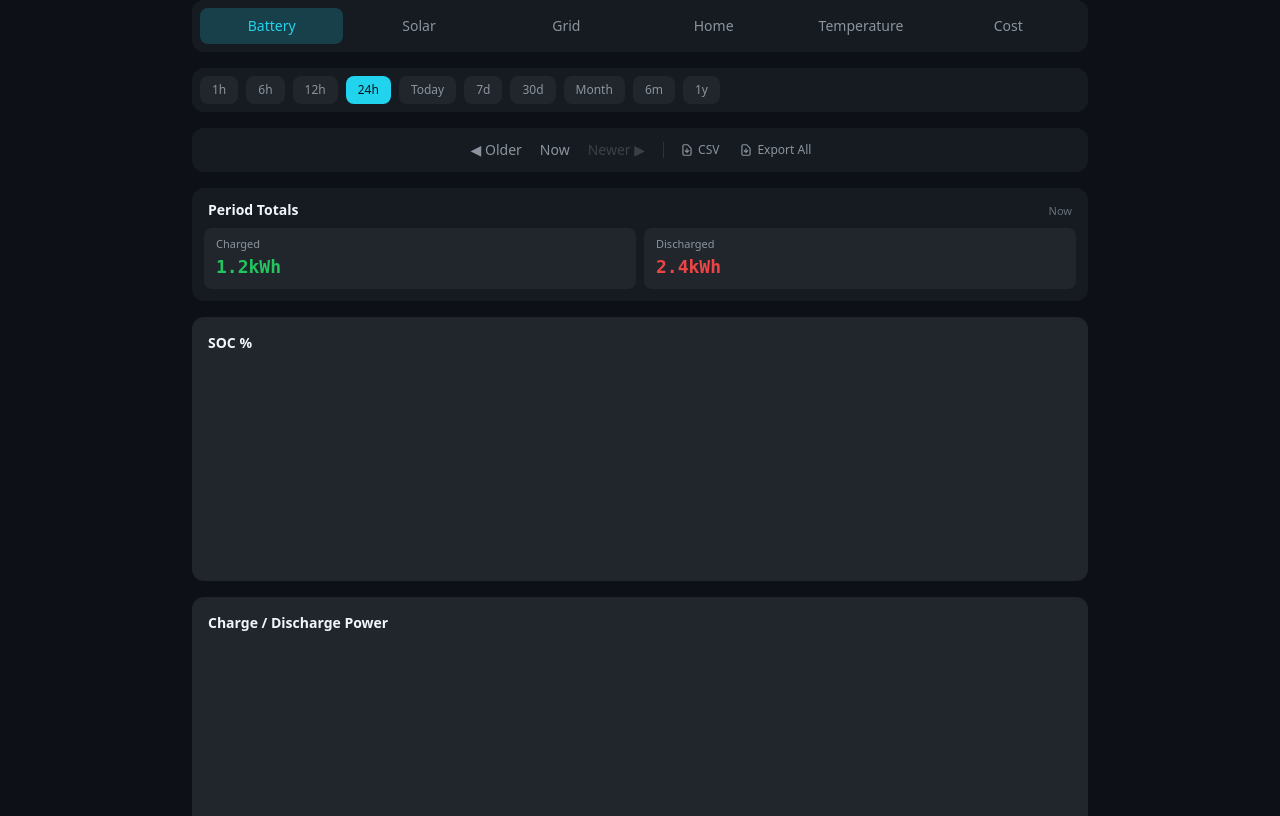
Test case: <HistoryPage/> — period totals (issue #237) › does not mislabel temperature readings as an additive total
Expected: the element "Period Totals" is shown, [192,188,1088,300]
Click the button "Temperature" at (861, 26), box [789,8,933,44]
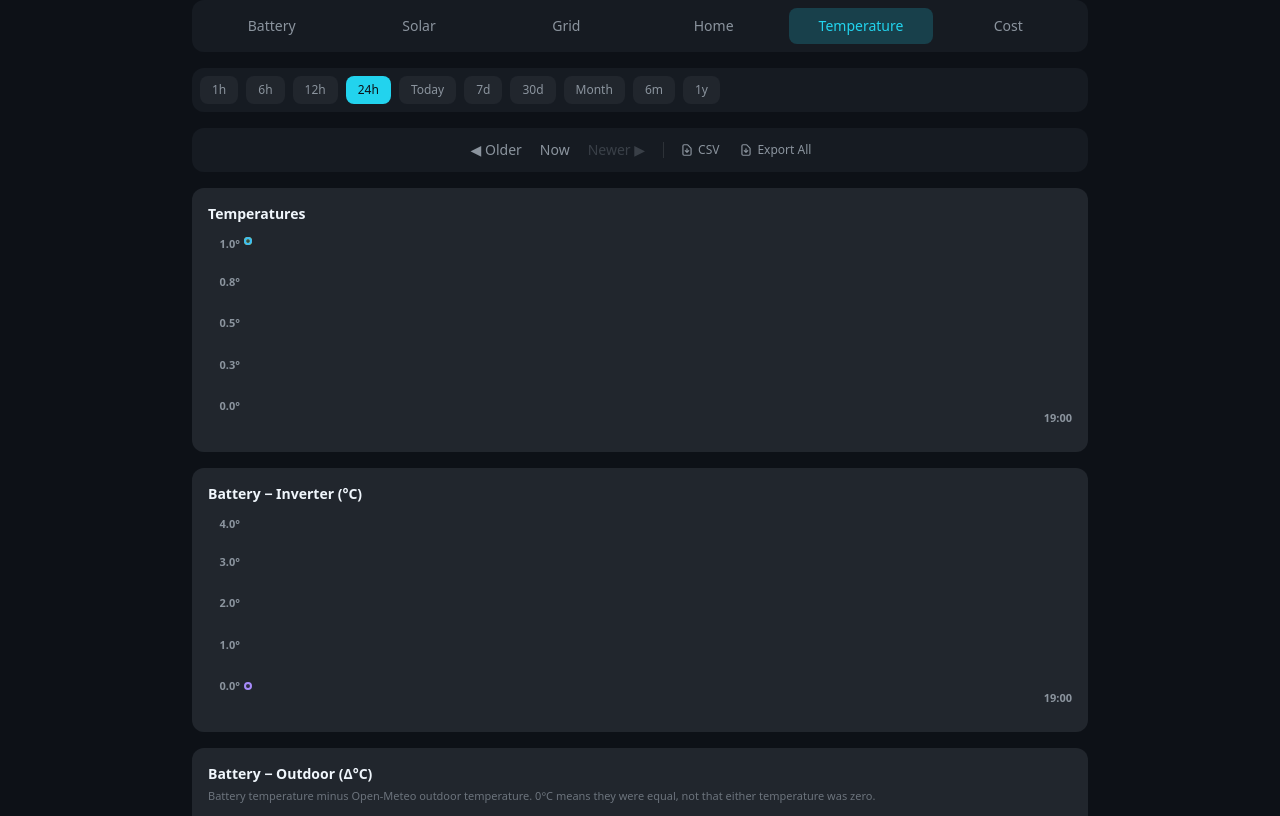
Expected: the heading "Period Totals" is gone
